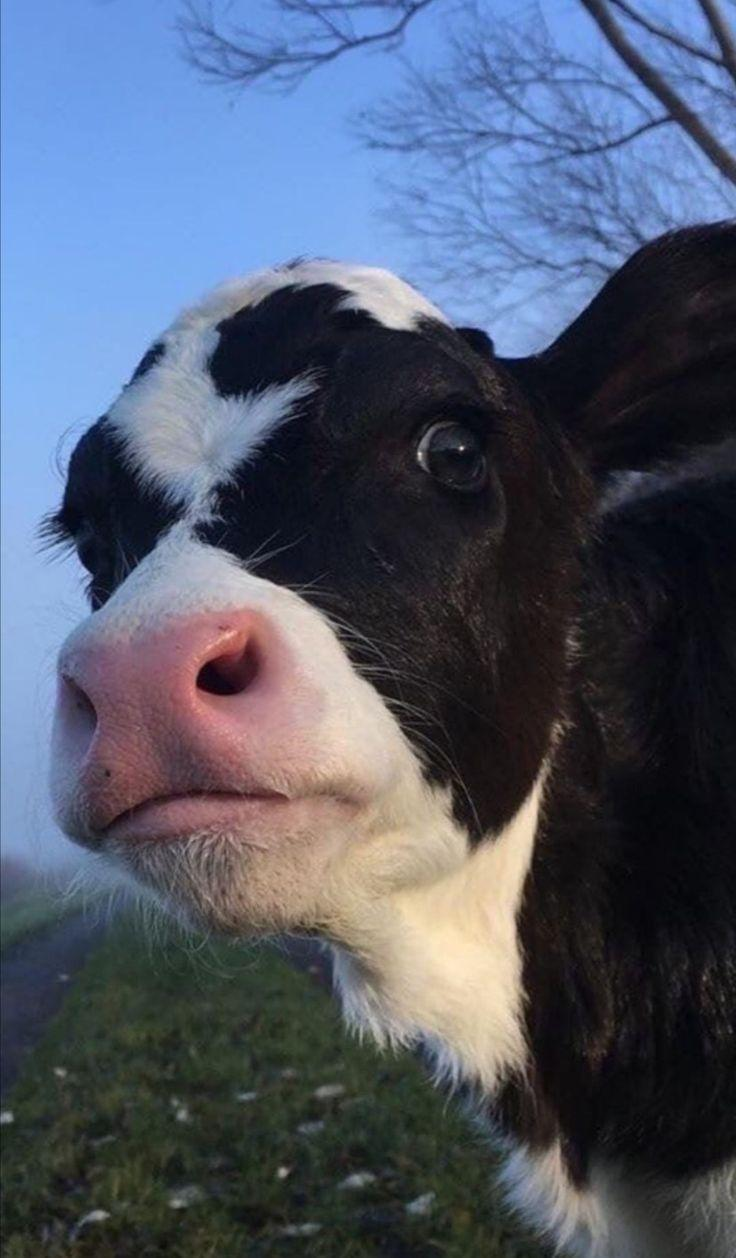cow: (50, 167, 720, 1223)
